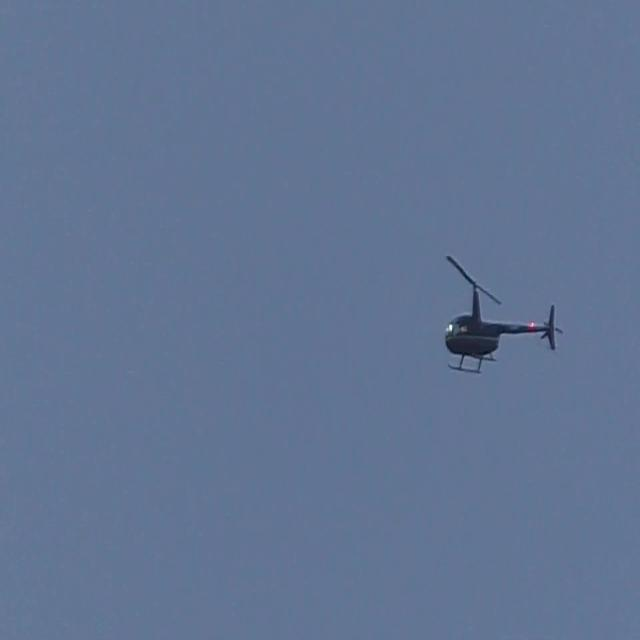CIV_HELO: (444, 278, 563, 374)
